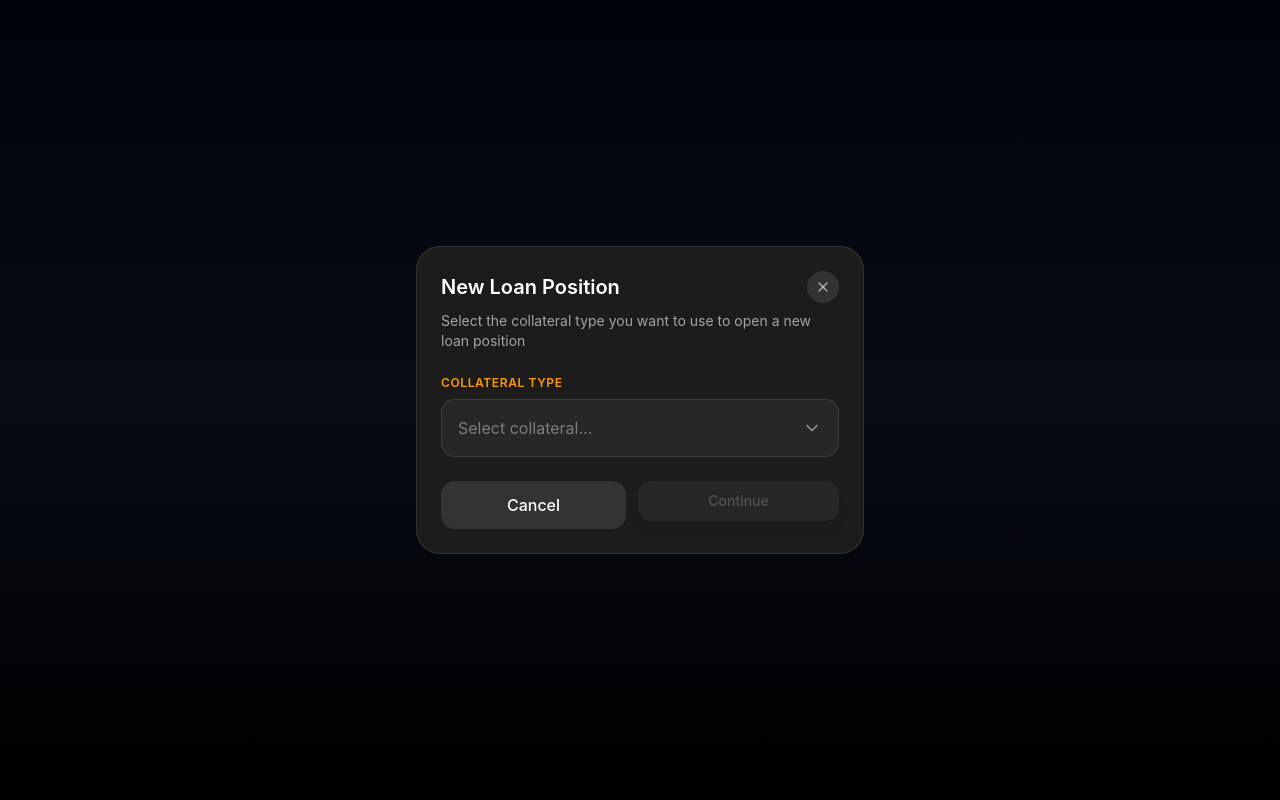
Test: NewLoanModal › Modal Rendering › should enable Continue button when collateral is selected
Select a collateral type
Click the button "Select collateral...".
click(525, 428)  # box [441, 399, 839, 457]
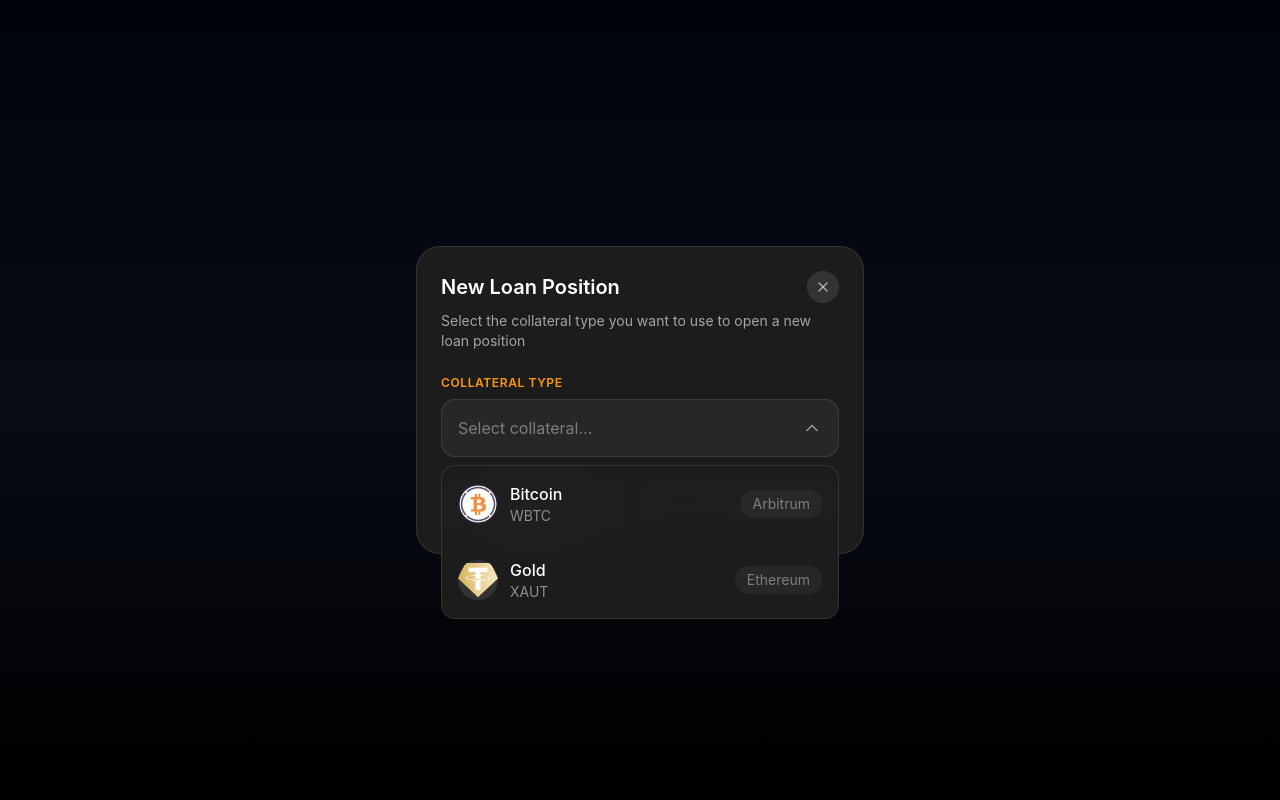
Click the text "Bitcoin".
click(536, 494)  # box [510, 482, 562, 506]
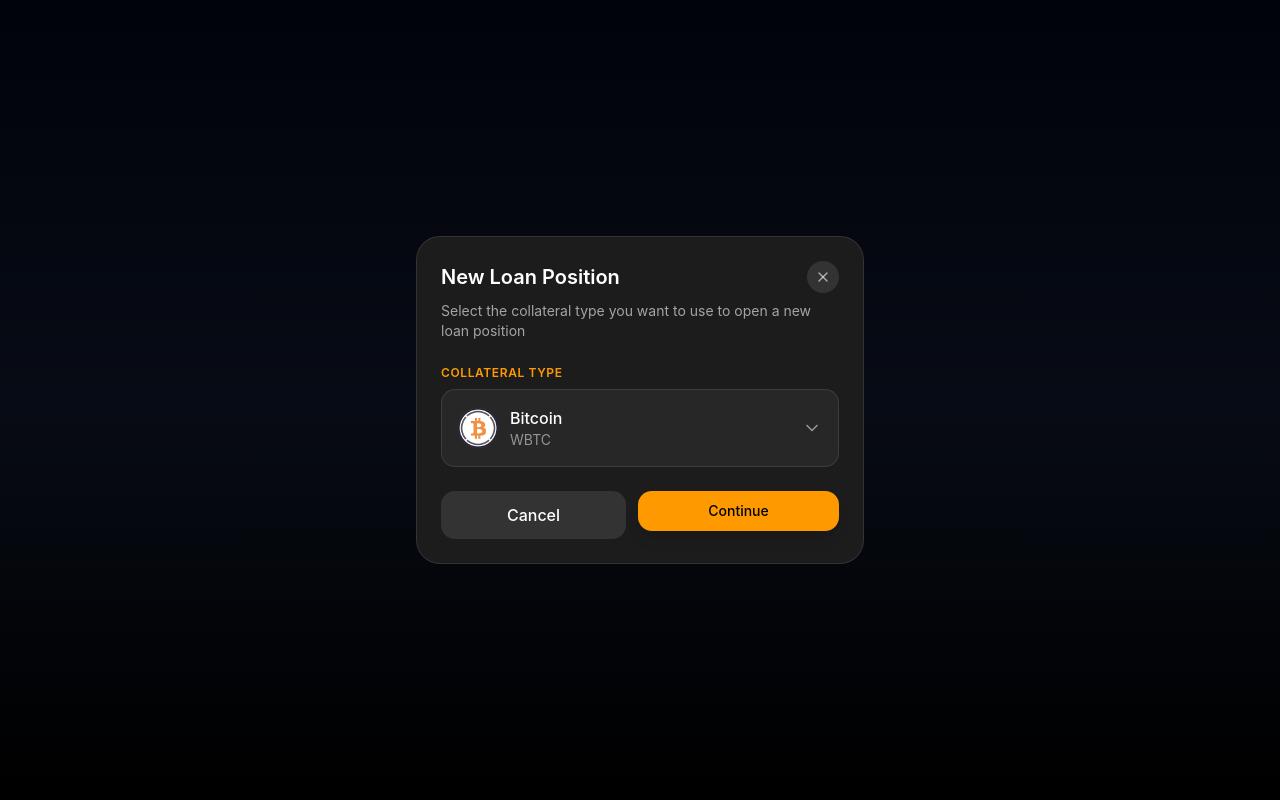
Result: the button "Continue" is enabled at [638, 491, 839, 531]
